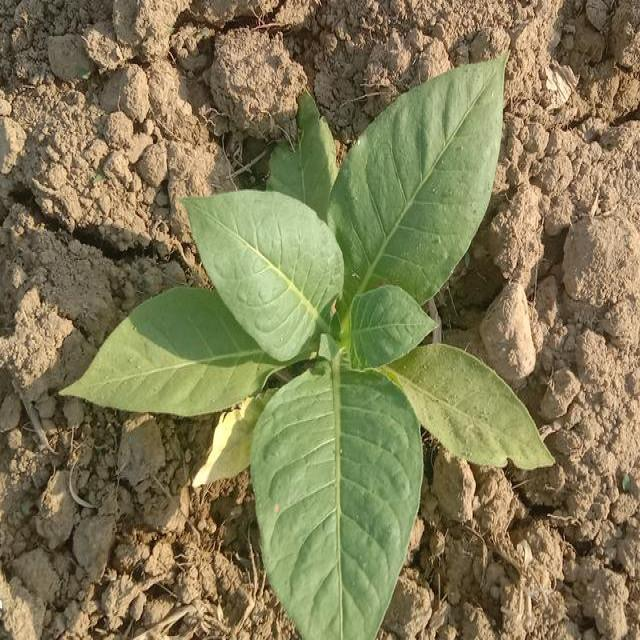crop: (55, 47, 556, 640)
